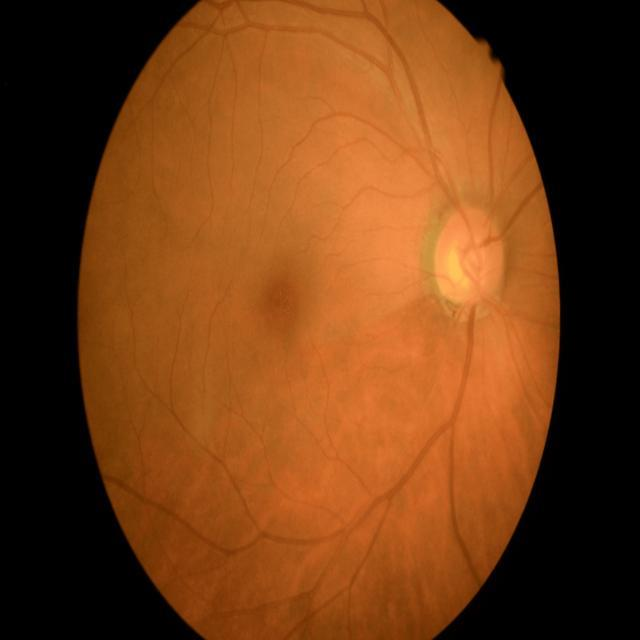cup: (450, 237, 486, 288)
disk: (435, 206, 505, 306)
